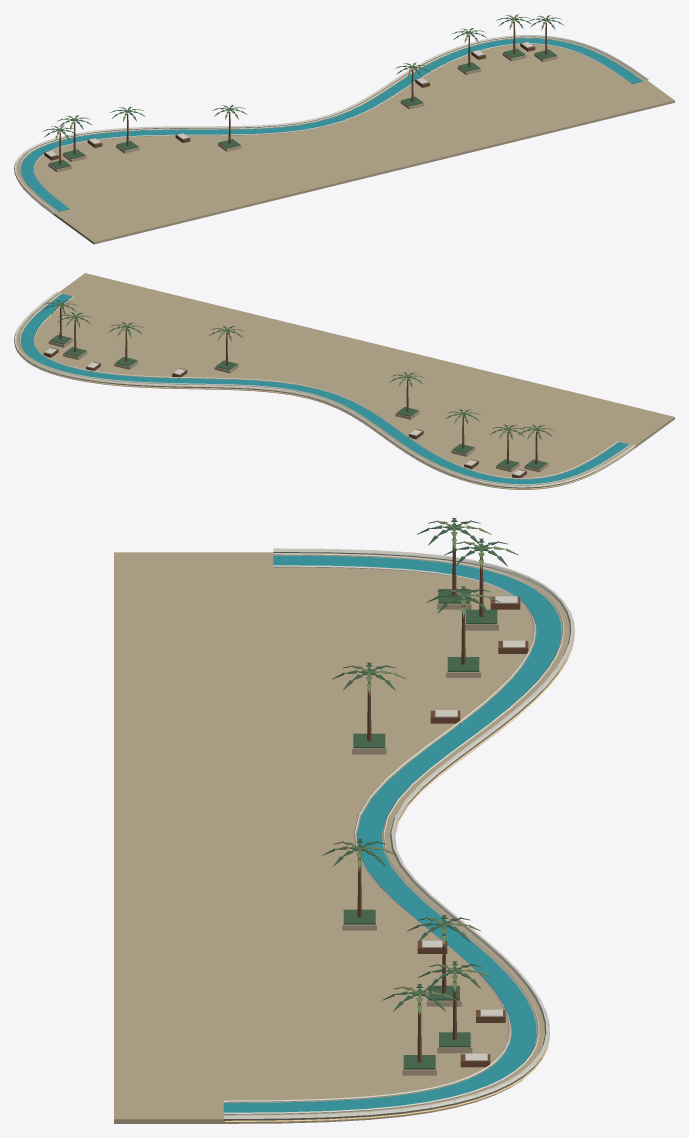
File: KOL_T1_JW__Roof_Terrace.fbx
The picture shows the model from 3 angles, top to bottom: view 1: azimuth 30°, elevation 25°; view 2: azimuth 150°, elevation 25°; view 3: azimuth 270°, elevation 25°; orthographic projection. The views are drawn at different scales.
Parts seen in each view (by area): view 1: KOL_T1_JW__Roof_Terrace__KOL_T1_Stone, KOL_T1_JW__Roof_Terrace__KOL_T1_Water, KOL_T1_JW__Roof_Terrace__KOL_T1_Pearl, KOL_T1_JW__Roof_Terrace__KOL_T1_Leaf, KOL_T1_JW__Roof_Terrace__KOL_T1_Louvre, KOL_T1_JW__Roof_Terrace__KOL_T1_LeafLight; view 2: KOL_T1_JW__Roof_Terrace__KOL_T1_Stone, KOL_T1_JW__Roof_Terrace__KOL_T1_Water, KOL_T1_JW__Roof_Terrace__KOL_T1_Pearl, KOL_T1_JW__Roof_Terrace__KOL_T1_Leaf, KOL_T1_JW__Roof_Terrace__KOL_T1_Louvre, KOL_T1_JW__Roof_Terrace__KOL_T1_Accent, KOL_T1_JW__Roof_Terrace__KOL_T1_LeafLight; view 3: KOL_T1_JW__Roof_Terrace__KOL_T1_Stone, KOL_T1_JW__Roof_Terrace__KOL_T1_Water, KOL_T1_JW__Roof_Terrace__KOL_T1_Pearl, KOL_T1_JW__Roof_Terrace__KOL_T1_Leaf, KOL_T1_JW__Roof_Terrace__KOL_T1_Louvre, KOL_T1_JW__Roof_Terrace__KOL_T1_LeafLight, KOL_T1_JW__Roof_Terrace__KOL_T1_Accent.
Part boxes in pixels (<box>): KOL_T1_JW__Roof_Terrace__KOL_T1_Stone: <box>16,37,674,244</box>; KOL_T1_JW__Roof_Terrace__KOL_T1_Water: <box>20,38,642,211</box>; KOL_T1_JW__Roof_Terrace__KOL_T1_Pearl: <box>14,35,648,213</box>; KOL_T1_JW__Roof_Terrace__KOL_T1_Leaf: <box>42,14,563,169</box>; KOL_T1_JW__Roof_Terrace__KOL_T1_Louvre: <box>44,21,547,164</box>; KOL_T1_JW__Roof_Terrace__KOL_T1_LeafLight: <box>51,15,561,140</box>; KOL_T1_JW__Roof_Terrace__KOL_T1_Stone: <box>16,273,674,489</box>; KOL_T1_JW__Roof_Terrace__KOL_T1_Water: <box>20,294,629,485</box>; KOL_T1_JW__Roof_Terrace__KOL_T1_Pearl: <box>14,291,635,488</box>; KOL_T1_JW__Roof_Terrace__KOL_T1_Leaf: <box>43,300,552,469</box>; KOL_T1_JW__Roof_Terrace__KOL_T1_Louvre: <box>43,307,537,479</box>; KOL_T1_JW__Roof_Terrace__KOL_T1_Accent: <box>15,346,633,489</box>; KOL_T1_JW__Roof_Terrace__KOL_T1_LeafLight: <box>44,302,554,439</box>; KOL_T1_JW__Roof_Terrace__KOL_T1_Stone: <box>114,552,569,1123</box>; KOL_T1_JW__Roof_Terrace__KOL_T1_Water: <box>223,555,561,1114</box>; KOL_T1_JW__Roof_Terrace__KOL_T1_Pearl: <box>223,548,574,1120</box>; KOL_T1_JW__Roof_Terrace__KOL_T1_Leaf: <box>322,518,507,1069</box>; KOL_T1_JW__Roof_Terrace__KOL_T1_Louvre: <box>357,537,528,1067</box>; KOL_T1_JW__Roof_Terrace__KOL_T1_LeafLight: <box>333,520,518,1015</box>; KOL_T1_JW__Roof_Terrace__KOL_T1_Accent: <box>225,636,574,1122</box>.
Size of the model in its own units: 271 by 17.8 by 92.68.
